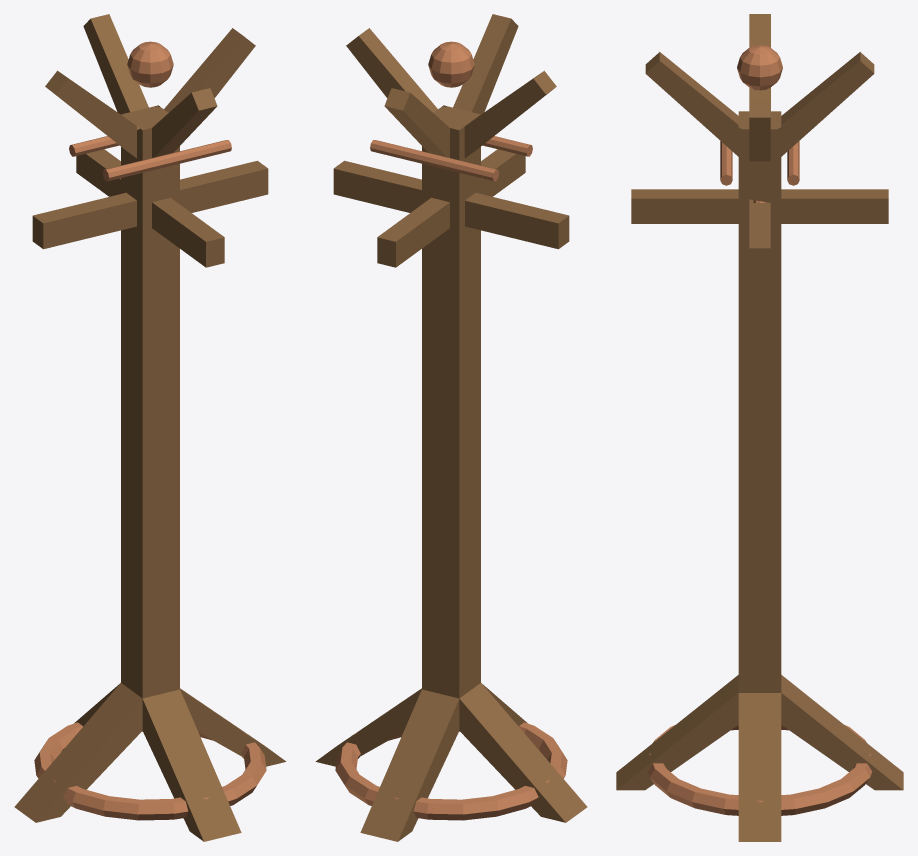
File: coatRackStanding.glb
The picture shows the model from 3 angles, left to right: view 1: azimuth 30°, elevation 25°; view 2: azimuth 150°, elevation 25°; view 3: azimuth 270°, elevation 25°; orthographic projection.
Parts seen in each view (by area): view 1: coatRackStanding(Clone); view 2: coatRackStanding(Clone); view 3: coatRackStanding(Clone).
Boxes of the visible parts, box(x1,y1,x2,y2) form: coatRackStanding(Clone): box(14, 14, 286, 841); coatRackStanding(Clone): box(315, 14, 587, 841); coatRackStanding(Clone): box(616, 14, 903, 841).
Bounding box in the file's own units: 0.2728 × 0.77 × 0.2728.
